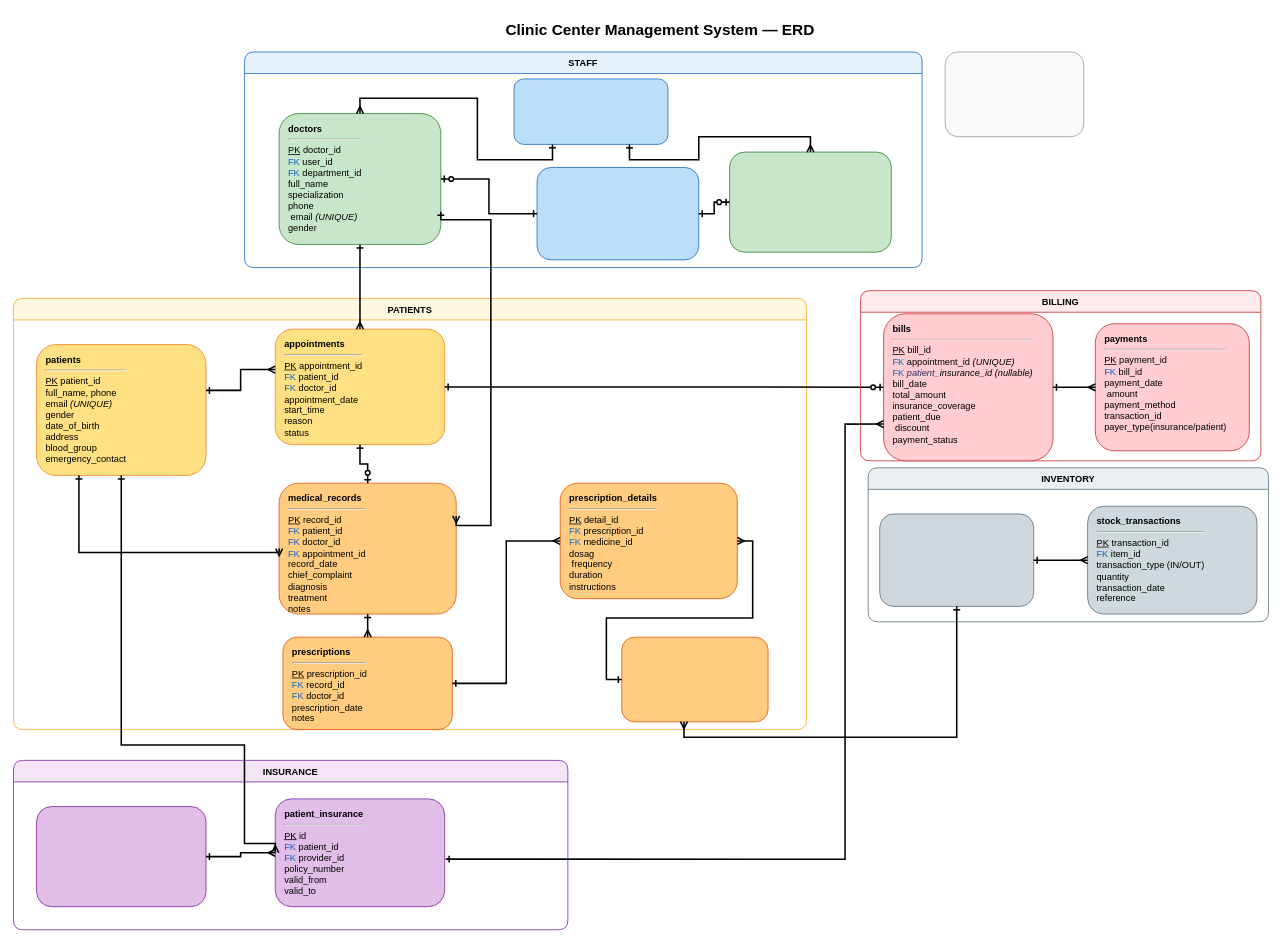
This 1282x943 diagram has some shape labels left out. The shapes that lost their labels are listed below. From the top down, each one's centre as x and y in pixels, then its label:
(590,111): departments PK department_id department_name description
(1014,94): Legend PK = Primary Key (underlined) FK = Foreign Key ─── 1 → many ─── 1 → 1
(617,213): users PK user_id username (UNIQUE) password_hash role created_at, updated_at
(810,201): nurses PK nurse_id FK user_id FK department_id full_name phone email
(956,559): inventory PK item_id item_name category quantity unit_price
(694,679): medicines PK medicine_id FK item_id medicine_name manufacturer
(121,856): insurance_providers PK procider_id provider_name phone email address
